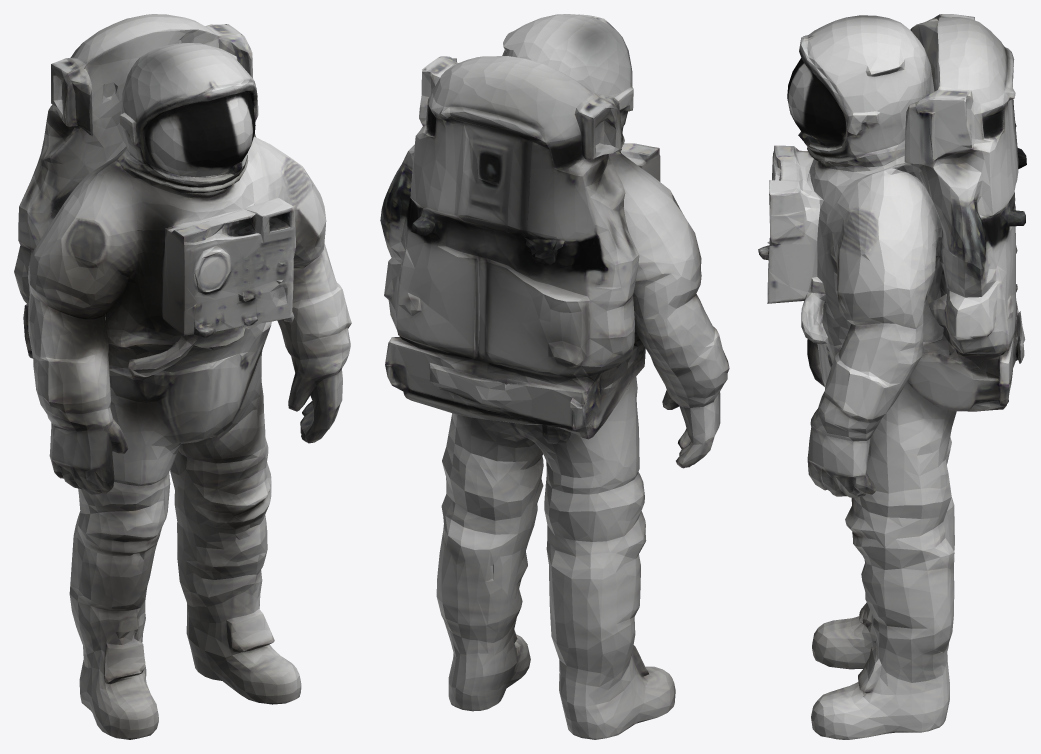
The model's file is astronaut.glb.
3 renders of one model, left to right at view 1: azimuth 30°, elevation 25°; view 2: azimuth 150°, elevation 25°; view 3: azimuth 270°, elevation 25°, orthographic. The views are drawn at different scales.
Parts seen in each view (by area): view 1: world; view 2: world; view 3: world.
Boxes of the visible parts, x1=… form: world: x1=14, y1=14, x2=351, y2=739; world: x1=380, y1=14, x2=729, y2=739; world: x1=758, y1=14, x2=1026, y2=739.
Bounding box in the file's own units: 0.4885 × 0.9999 × 0.3648.
1 material, 1 textured.
